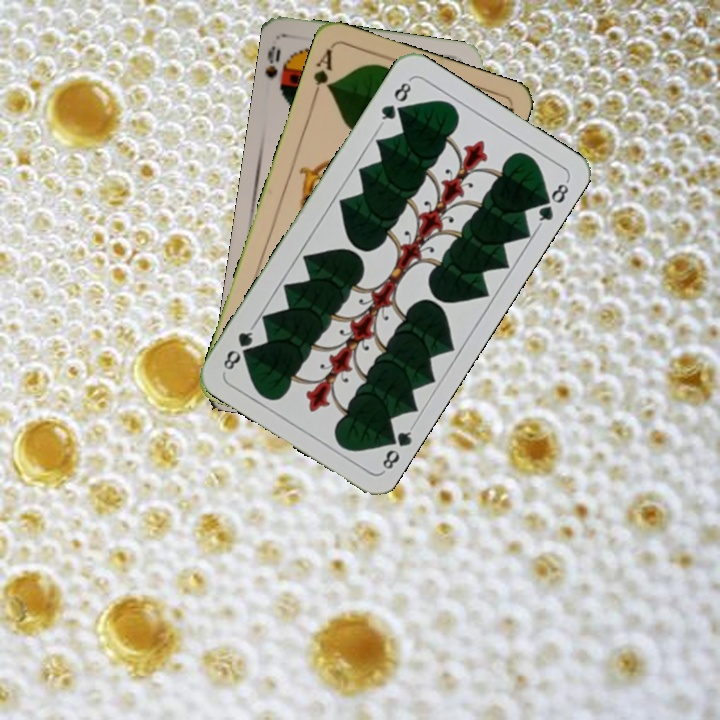G8: (378, 422, 417, 475), (376, 75, 414, 128)
GA: (308, 44, 335, 102)
SO: (262, 42, 291, 99)
